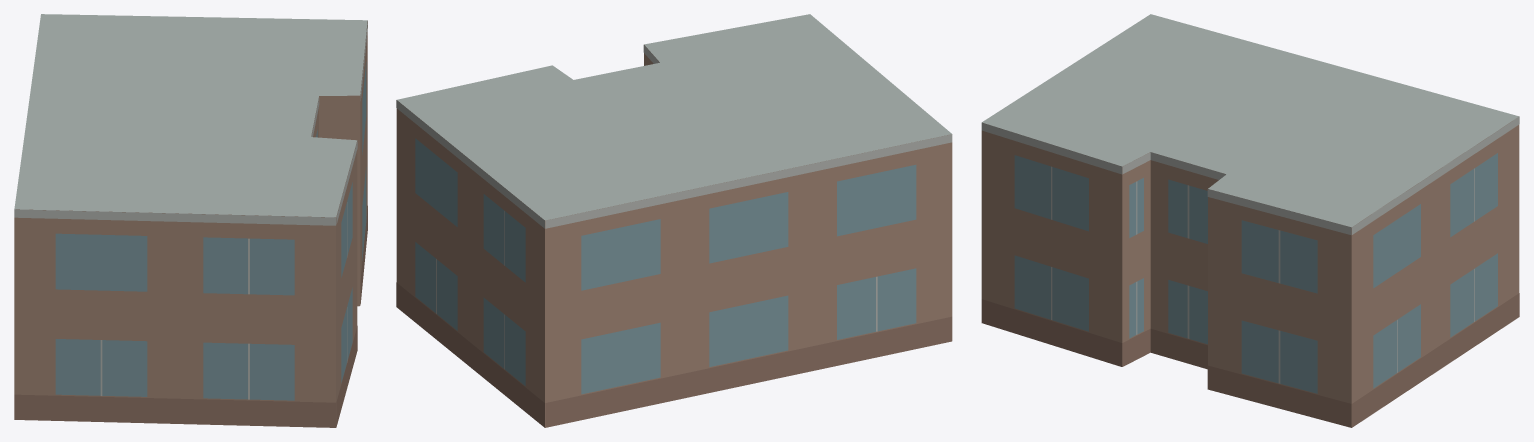
The model's file is survey-upis-32731726.glb.
The picture shows the model from 3 angles, left to right: view 1: azimuth 30°, elevation 25°; view 2: azimuth 150°, elevation 25°; view 3: azimuth 270°, elevation 25°; orthographic projection. The views are drawn at different scales.
Visible parts, largest first — view 1: survey-upis-32731726.tmp; view 2: survey-upis-32731726.tmp; view 3: survey-upis-32731726.tmp.
Part boxes in pixels (<box>): survey-upis-32731726.tmp: <box>14,14,367,427</box>; survey-upis-32731726.tmp: <box>396,14,952,427</box>; survey-upis-32731726.tmp: <box>981,14,1519,427</box>.
Size of the model in its own units: 13.92 by 6.1 by 14.83.
